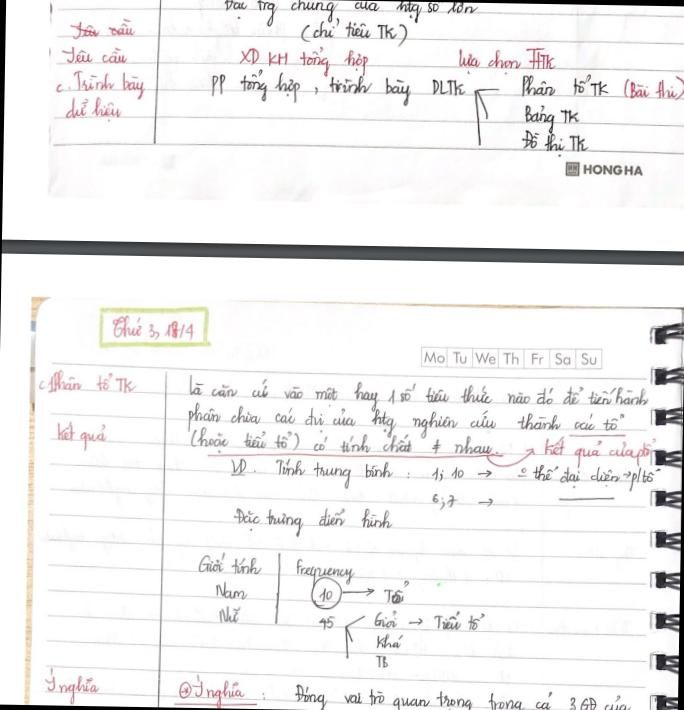text: (185, 377, 651, 420), (185, 402, 626, 441), (294, 679, 636, 710), (206, 70, 468, 109), (186, 429, 495, 460), (218, 0, 480, 30), (517, 68, 684, 104), (231, 503, 395, 539), (235, 42, 370, 78), (512, 464, 665, 493), (272, 454, 394, 490), (420, 347, 599, 370), (540, 436, 660, 468), (454, 43, 557, 79), (299, 17, 409, 48), (108, 311, 198, 344), (38, 369, 140, 397), (55, 68, 147, 99), (42, 665, 102, 706), (188, 672, 248, 708), (292, 556, 357, 588), (520, 128, 588, 158), (52, 419, 110, 452), (195, 550, 264, 577), (523, 102, 581, 134), (64, 94, 124, 124), (65, 18, 136, 42), (57, 46, 128, 70), (430, 610, 487, 632), (580, 160, 644, 178), (428, 464, 471, 484), (382, 578, 412, 606), (371, 606, 400, 631), (213, 581, 248, 601), (429, 490, 460, 510), (214, 604, 244, 624), (227, 456, 251, 480), (374, 631, 404, 650), (316, 613, 338, 630), (372, 652, 390, 672), (317, 594, 338, 606)
